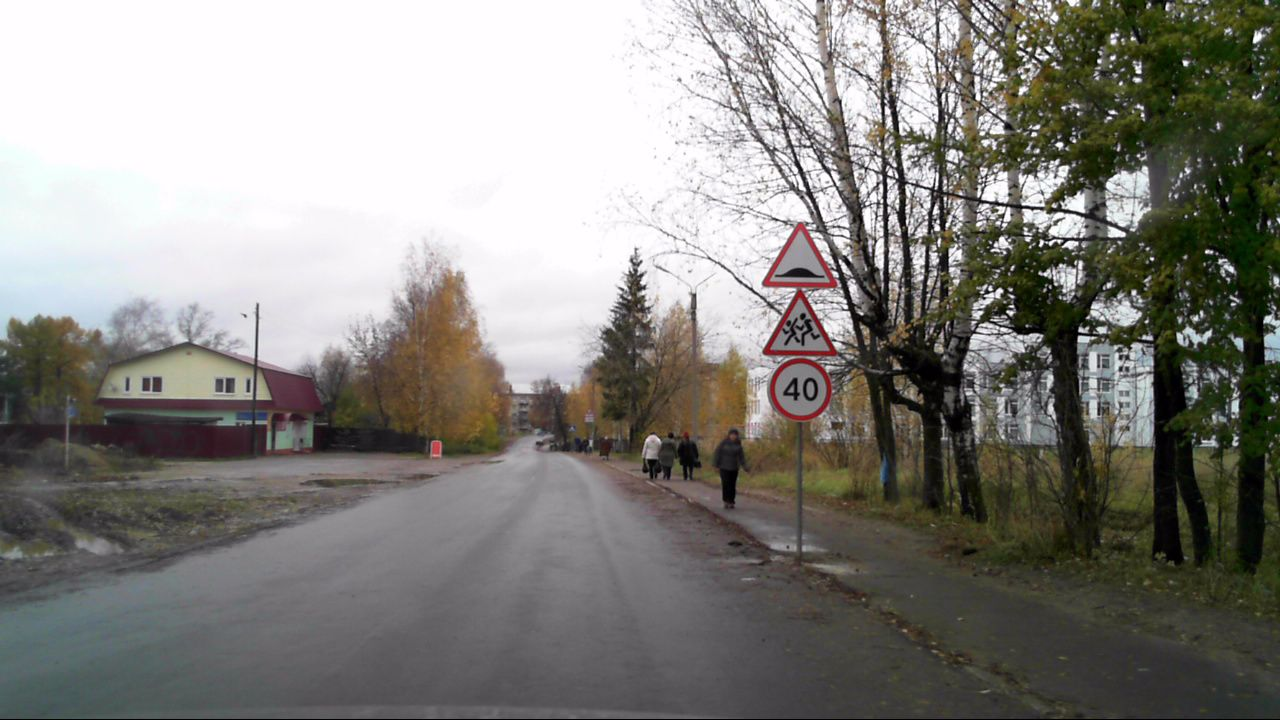speed_warning_40: (766, 358, 832, 423)
